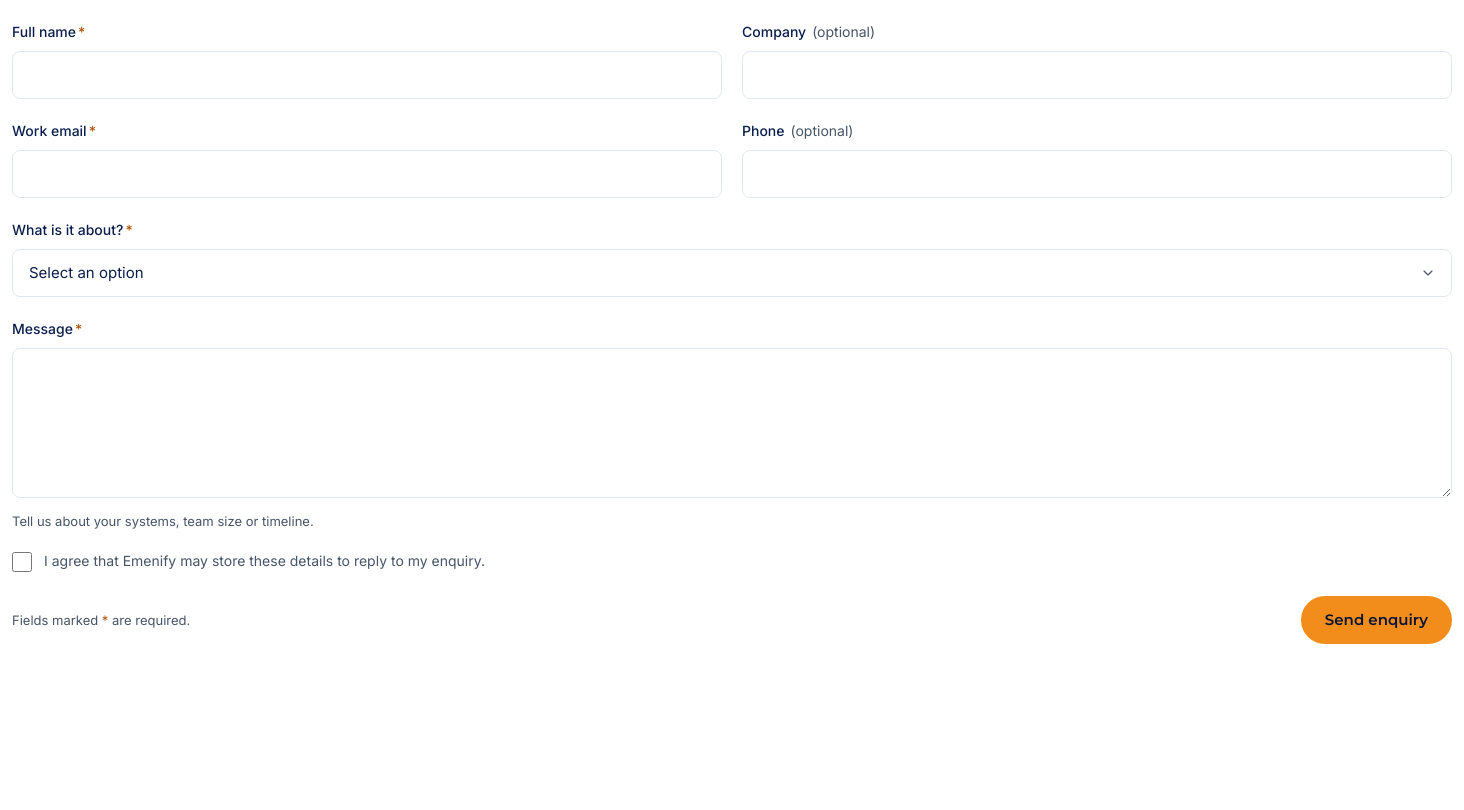
GeneralEnquiryForm › shows inline errors for missing required fields
Click the button "Send enquiry". click: coordinates (1376, 620)
box: [1301,596,1452,644]
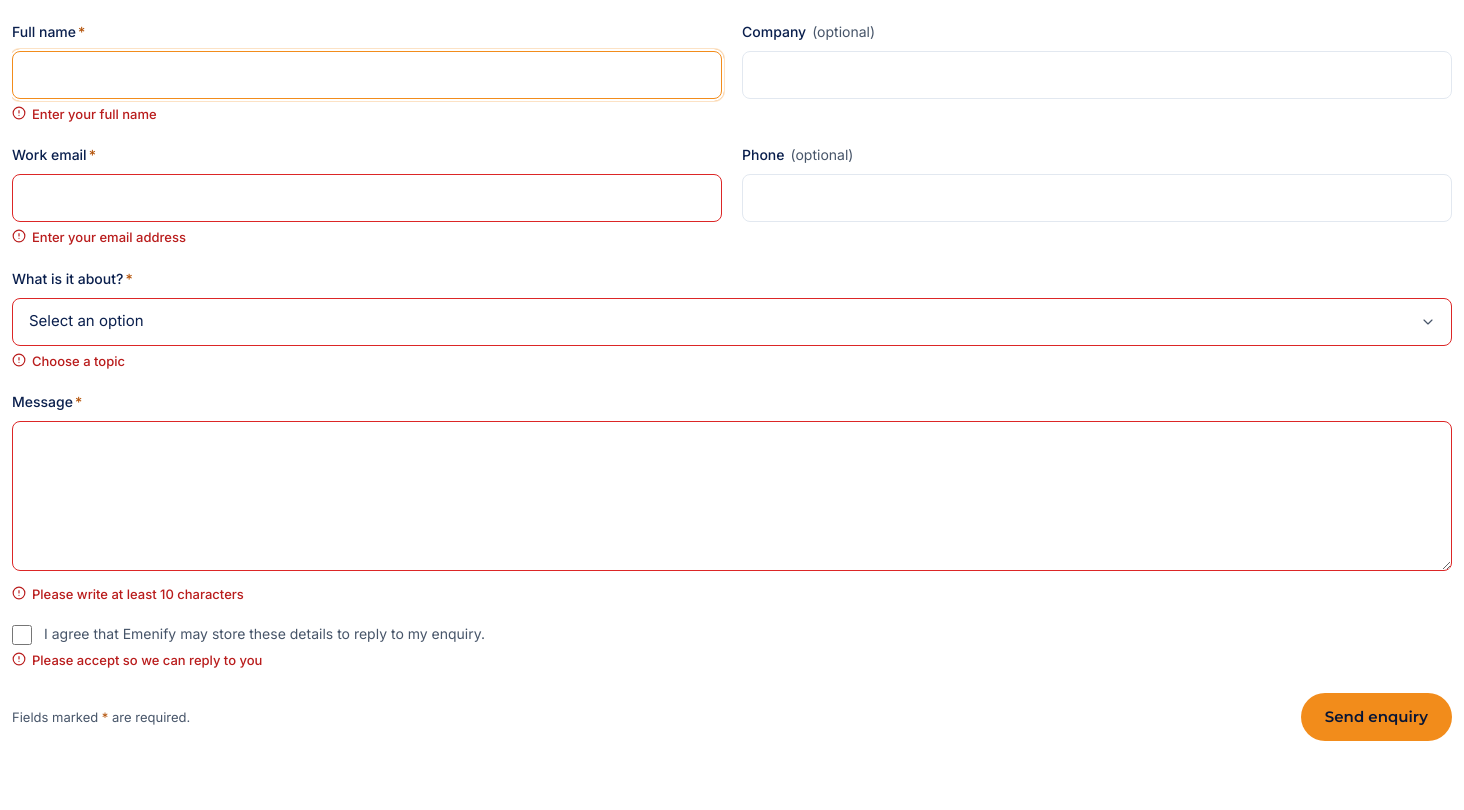
expect the text "Enter your full name" is shown: met, box [12,106,157,122]
expect the text "Enter your email address" is shown: met, box [12,229,186,245]
expect the text "Choose a topic" is shown: met, box [12,353,125,369]
